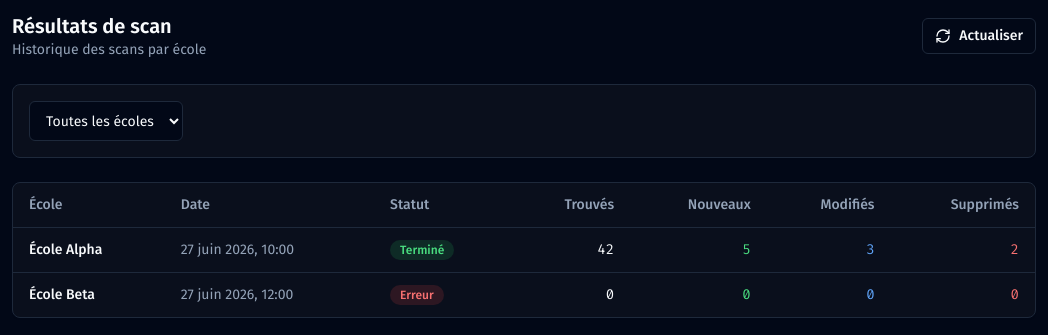
it: ScanResultsPage › filters scan runs when a school is selected
Select "École Alpha" in the dropdown at (106, 121), box [29, 101, 183, 141]
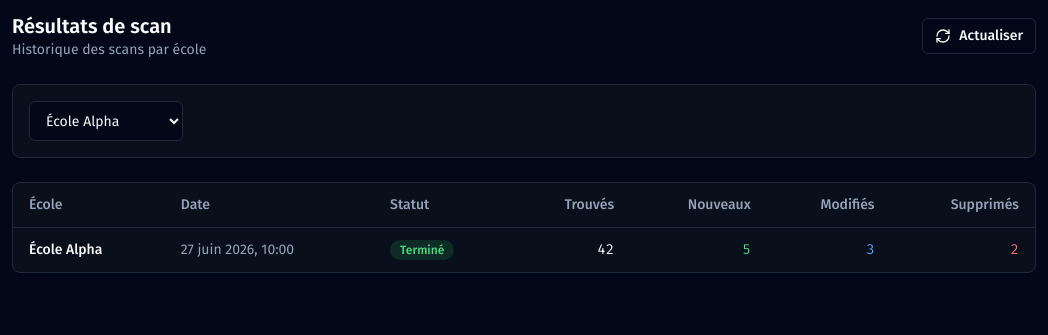
Expected: the cell "École Alpha" is shown, [13, 228, 165, 272]
Expected: the cell no longer shows "École Beta"
